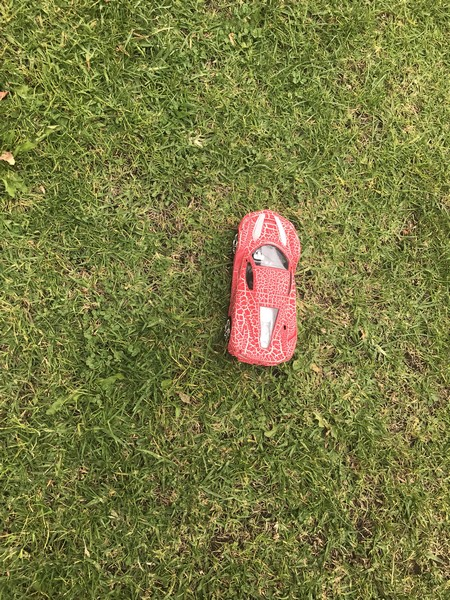RC: (219, 210, 303, 368)
